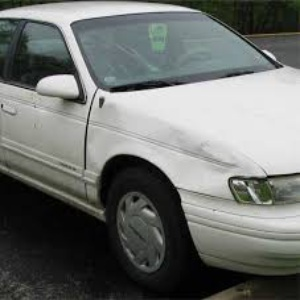bonnet: (47, 41, 221, 115)
bumper: (3, 198, 204, 281)
